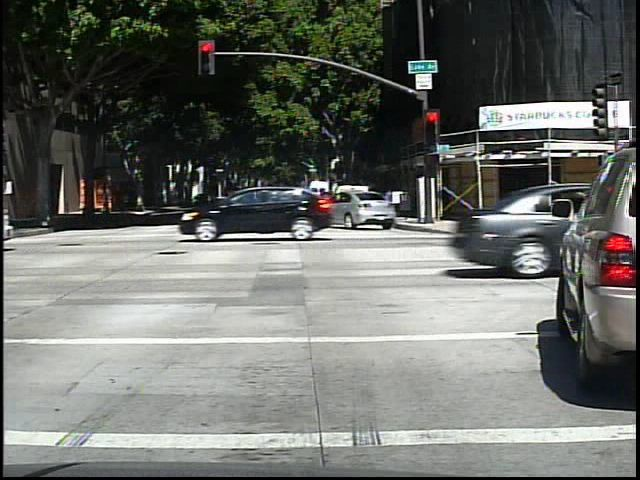person: (97, 185, 112, 219)
